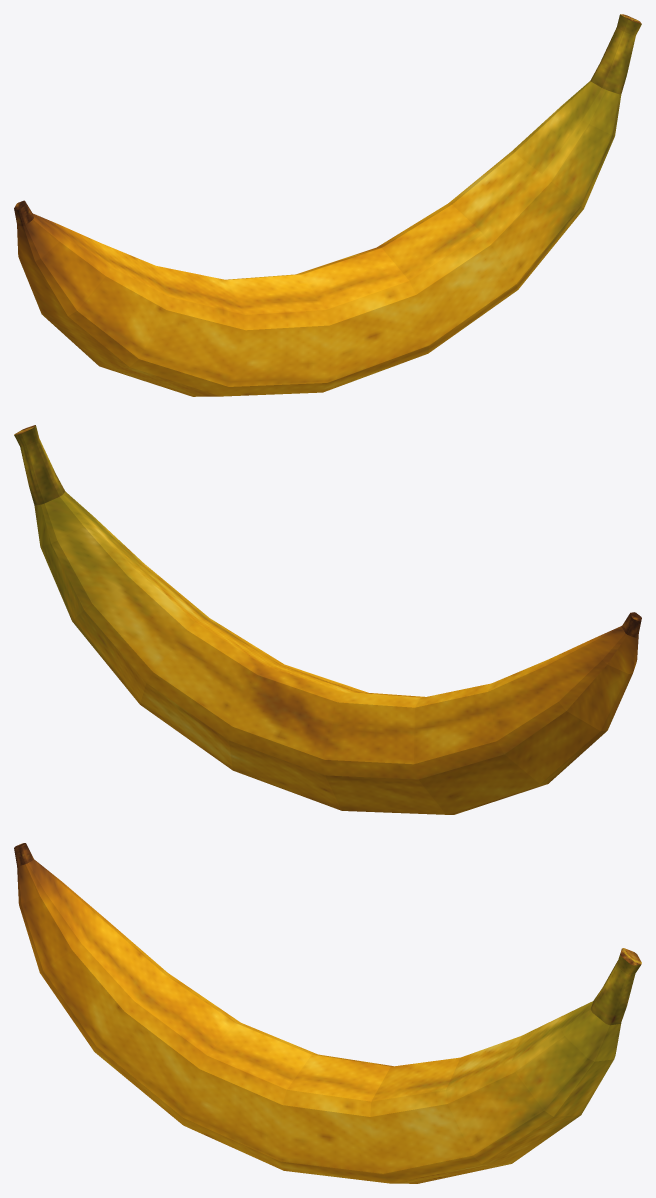
Rendered from Banana.glb.
3 renders of one model, top to bottom at view 1: azimuth 30°, elevation 25°; view 2: azimuth 150°, elevation 25°; view 3: azimuth 330°, elevation 25°, orthographic.
Visible parts, largest first — view 1: Casca, Cabinho; view 2: Casca, Cabinho; view 3: Casca, Cabinho.
Part boxes in pixels (bbox=[...]): Casca: bbox=[17, 81, 621, 396]; Cabinho: bbox=[590, 14, 641, 94]; Casca: bbox=[34, 491, 638, 814]; Cabinho: bbox=[14, 425, 65, 505]; Casca: bbox=[17, 859, 621, 1183]; Cabinho: bbox=[590, 955, 640, 1025].
Size of the model in its own units: 0.2144 by 0.0991 by 0.0295.
1 material, 1 textured.
